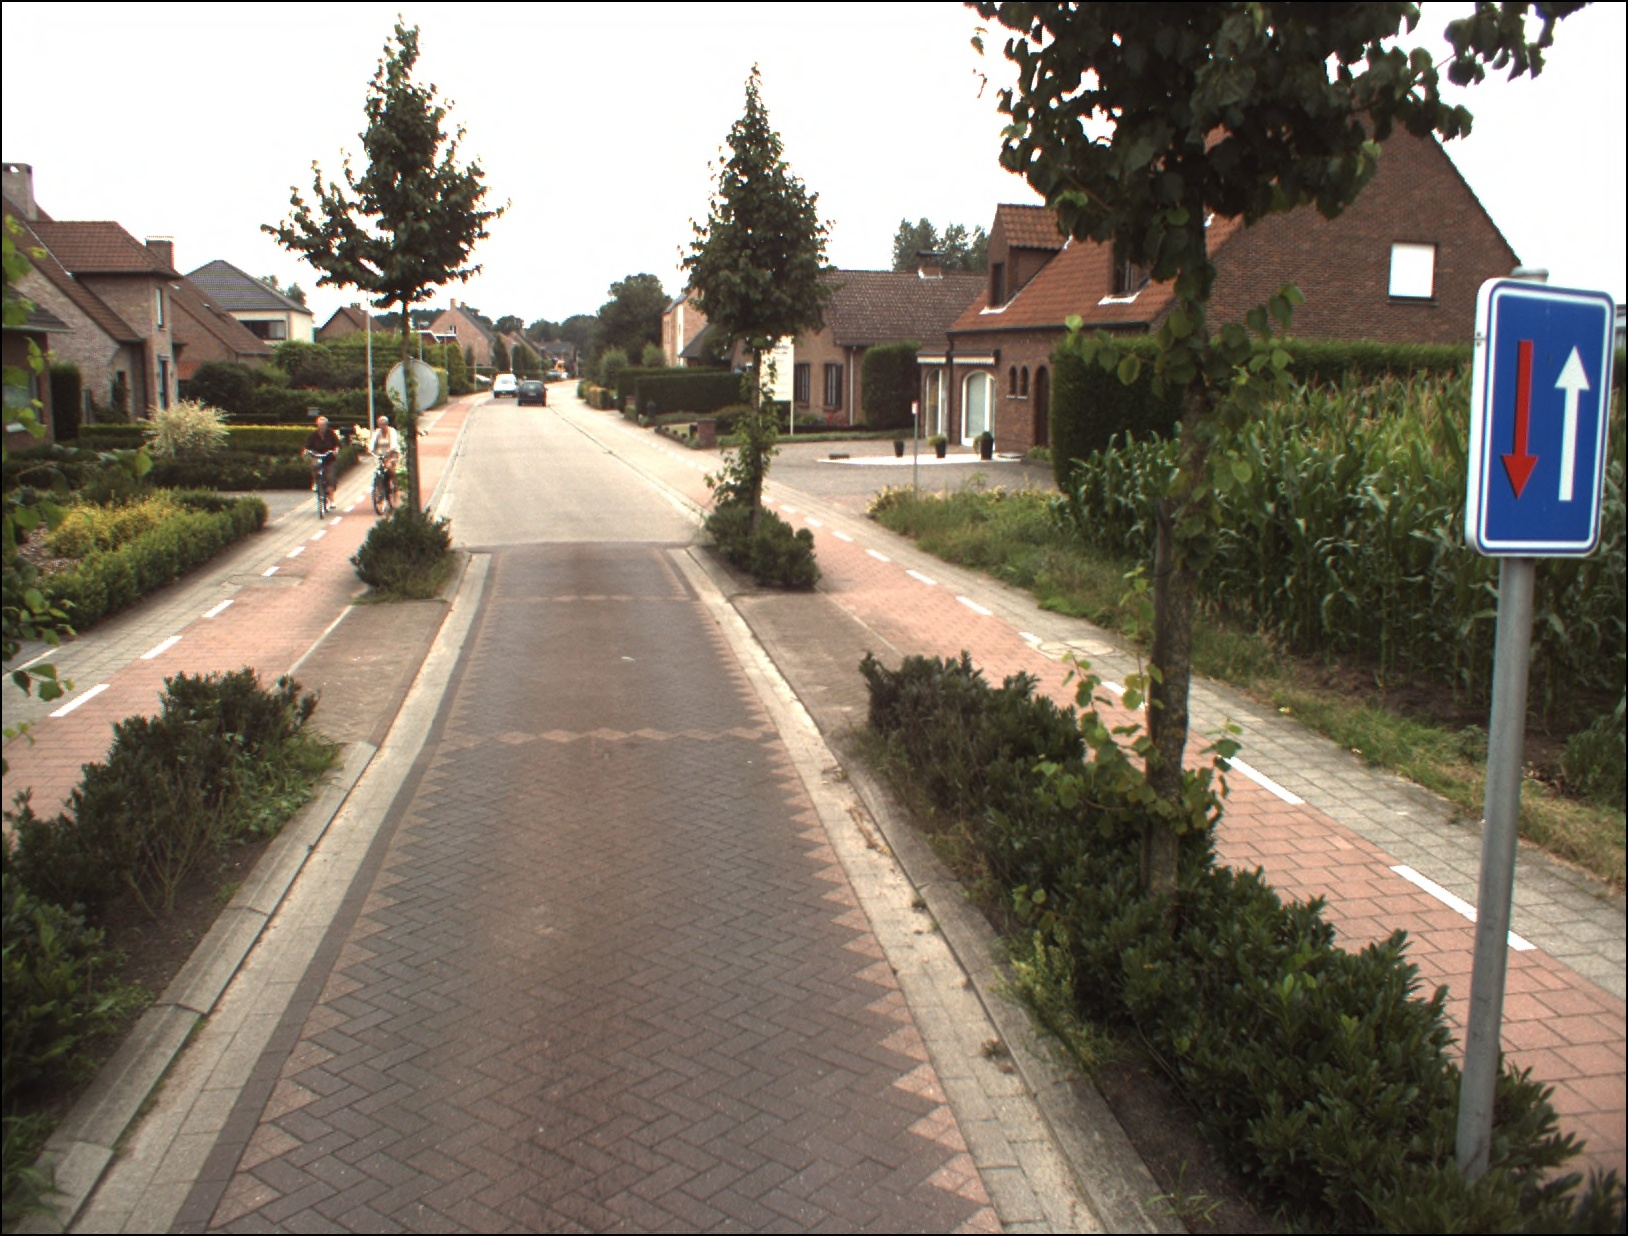roadnarrow1: (1483, 273, 1607, 560)
